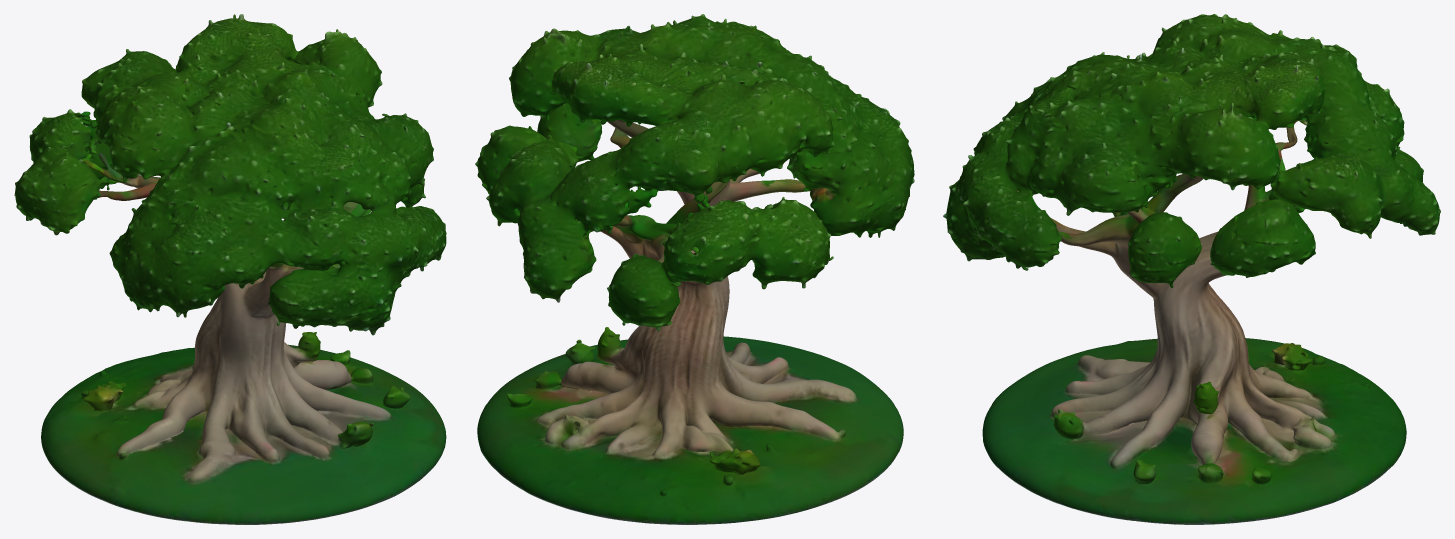
File: tree-2-c.glb
3 renders of one model, left to right at view 1: azimuth 30°, elevation 25°; view 2: azimuth 150°, elevation 25°; view 3: azimuth 270°, elevation 25°, orthographic. The views are drawn at different scales.
Visible parts, largest first — view 1: tripo_node_8b87d578-1663-4e52-9977-3b4640b61bb4; view 2: tripo_node_8b87d578-1663-4e52-9977-3b4640b61bb4; view 3: tripo_node_8b87d578-1663-4e52-9977-3b4640b61bb4.
Boxes of the visible parts, x1,y1,x2,y2 form: tripo_node_8b87d578-1663-4e52-9977-3b4640b61bb4: (14,14,446,524); tripo_node_8b87d578-1663-4e52-9977-3b4640b61bb4: (475,14,914,524); tripo_node_8b87d578-1663-4e52-9977-3b4640b61bb4: (943,14,1440,524).
Size of the model in its own units: 0.8507 by 0.8759 by 1.
1 material, 1 textured.
